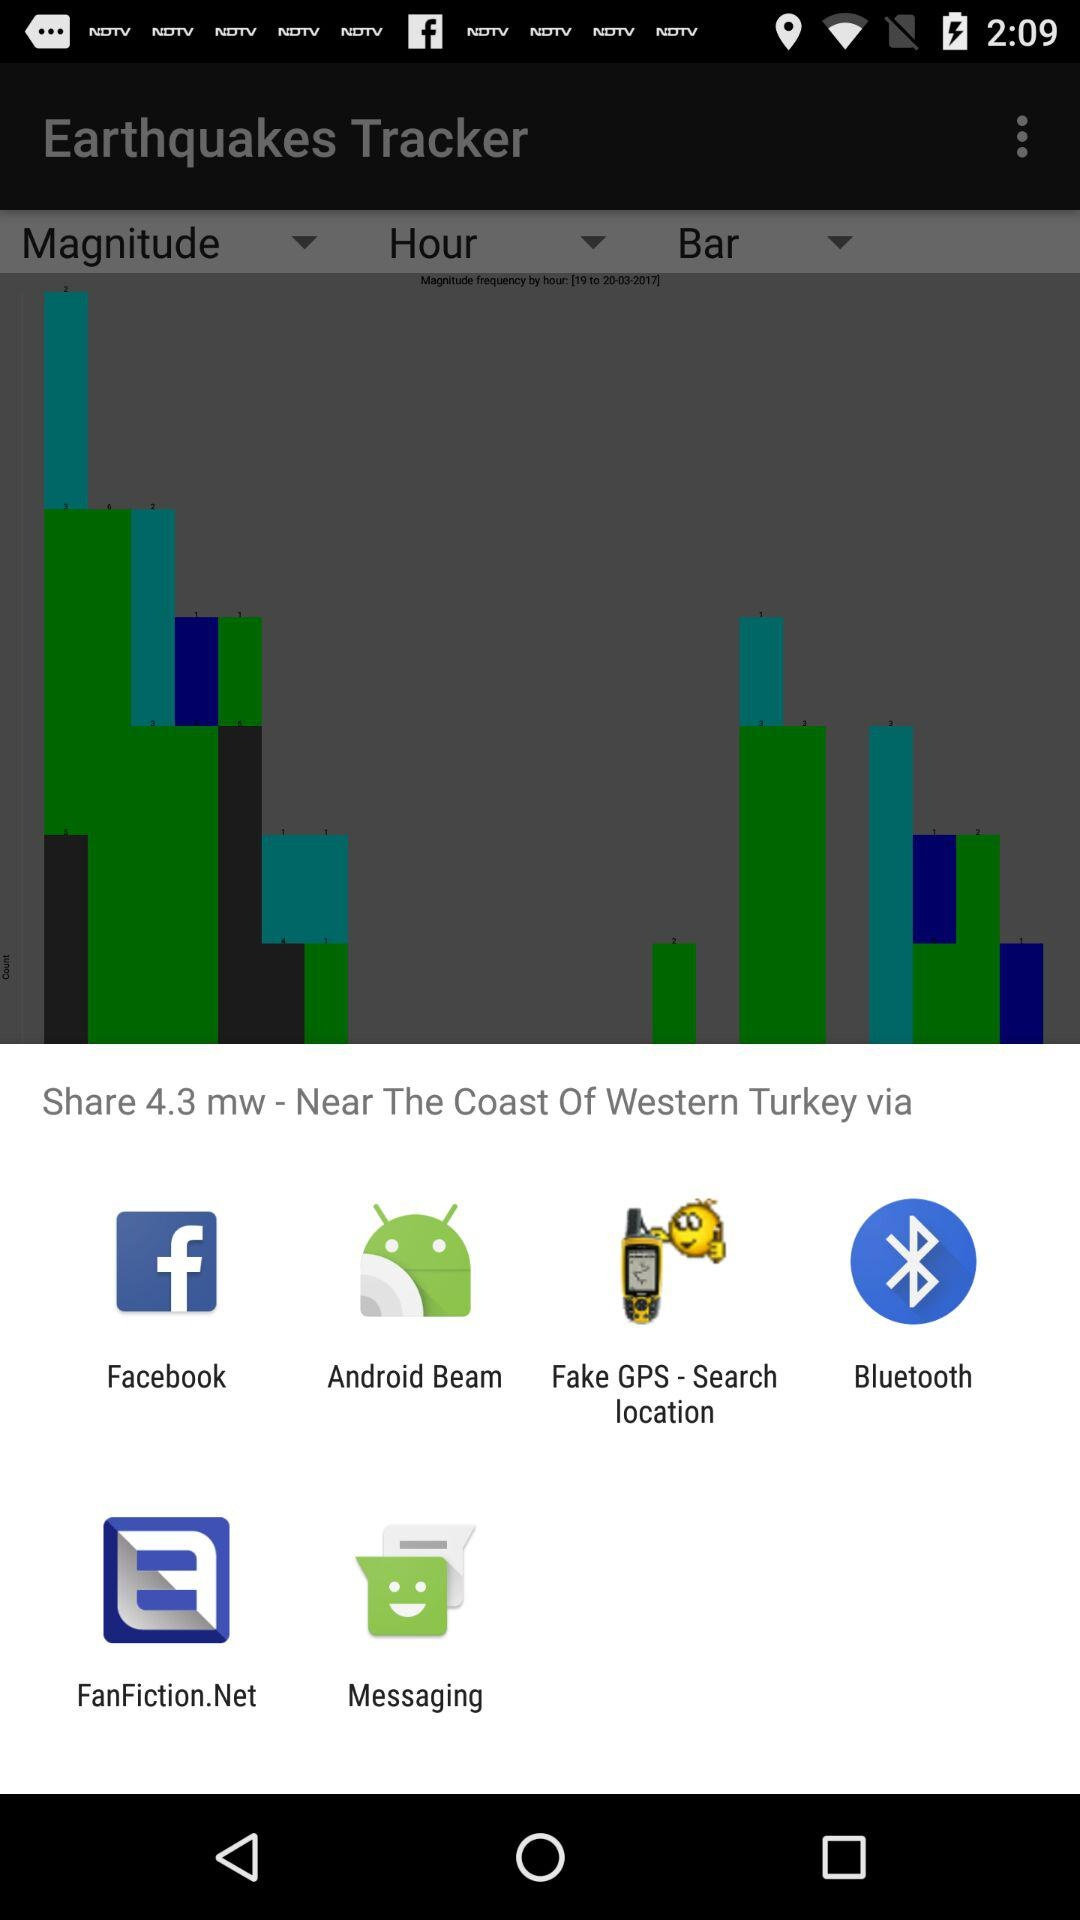ImageView: (603, 1197, 728, 1324)
TextView: (42, 1044, 1075, 1156), (550, 1354, 778, 1433)
